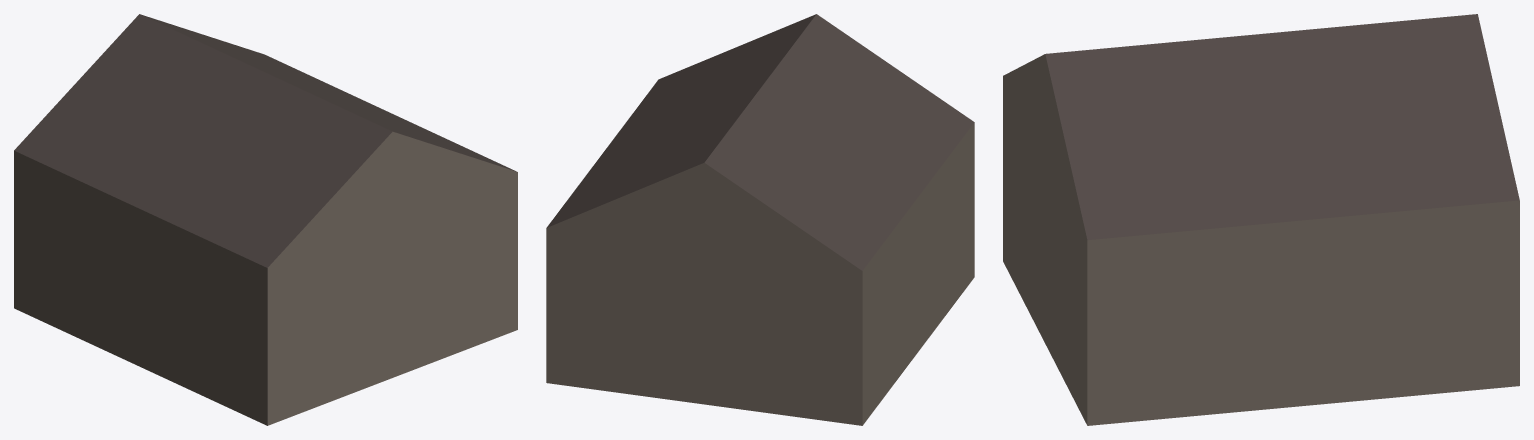
3 views of the same model, side by side, from view 1: azimuth 30°, elevation 25°; view 2: azimuth 150°, elevation 25°; view 3: azimuth 270°, elevation 25° (orthographic). The views are drawn at different scales.
Visible parts, largest first — view 1: HP-w389701956; view 2: HP-w389701956; view 3: HP-w389701956.
Boxes of the visible parts, x1,y1,x2,y2 form: HP-w389701956: (14, 14, 517, 425); HP-w389701956: (546, 14, 974, 425); HP-w389701956: (1003, 14, 1519, 425).
Bounding box in the file's own units: 21.24 × 14.05 × 22.7.
